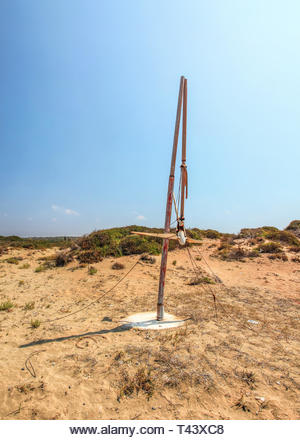faulty: (151, 72, 204, 286)
